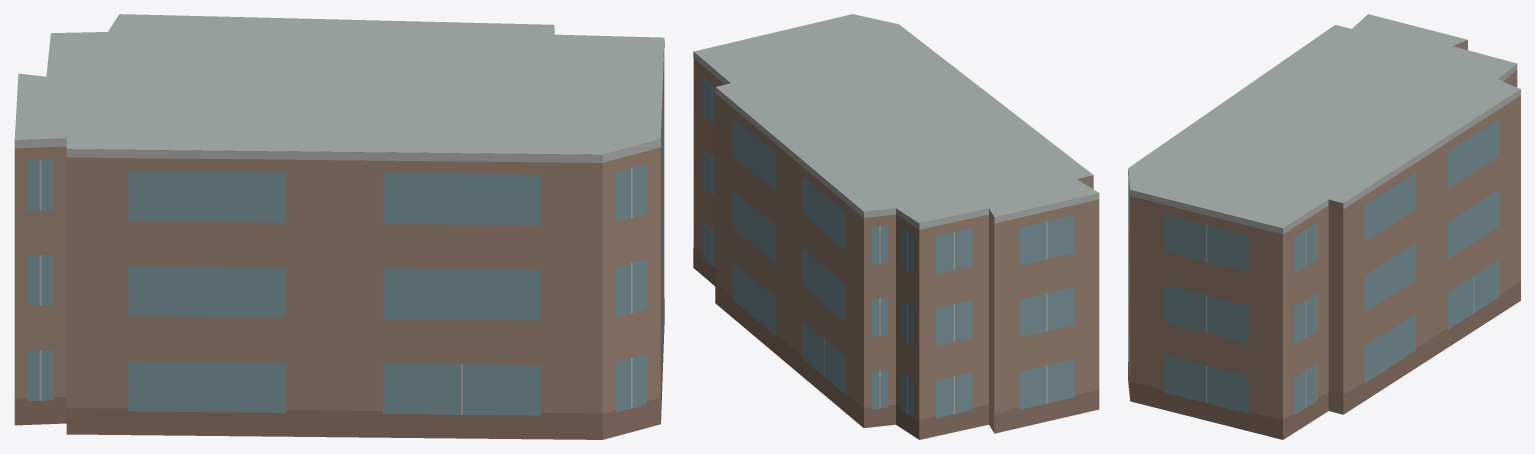
The model's file is survey-upis-32943336.glb.
The picture shows the model from 3 angles, left to right: view 1: azimuth 30°, elevation 25°; view 2: azimuth 150°, elevation 25°; view 3: azimuth 270°, elevation 25°; orthographic projection. The views are drawn at different scales.
Visible parts, largest first — view 1: survey-upis-32943336.tmp; view 2: survey-upis-32943336.tmp; view 3: survey-upis-32943336.tmp.
Boxes of the visible parts, x1,y1,x2,y2 form: survey-upis-32943336.tmp: (14, 14, 664, 439); survey-upis-32943336.tmp: (693, 14, 1099, 439); survey-upis-32943336.tmp: (1128, 14, 1520, 439).
Bounding box in the file's own units: 18.04 × 8.3 × 13.97.
